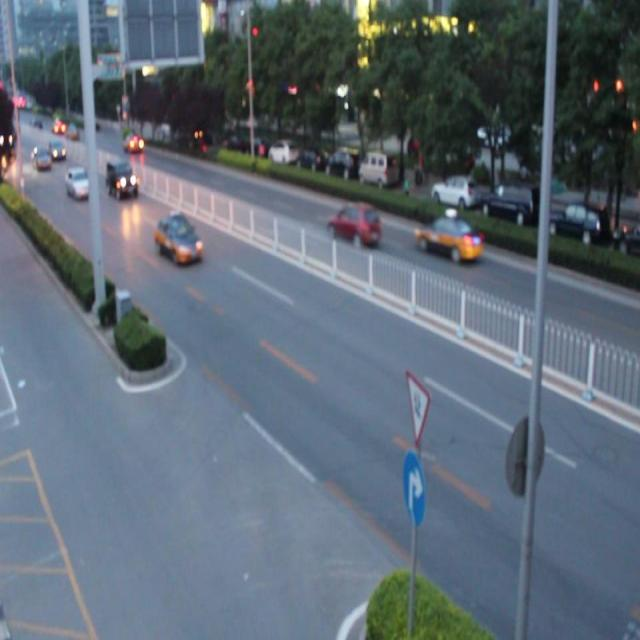car: (417, 220, 479, 260), (156, 217, 202, 261), (328, 207, 378, 242), (108, 164, 136, 192), (67, 170, 90, 196)
